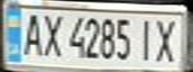2: (81, 14, 100, 61)
4: (63, 12, 87, 60)
5: (115, 16, 136, 61)
8: (97, 15, 118, 61)
A: (18, 9, 45, 57)
I: (133, 16, 157, 63)
X: (151, 15, 184, 64), (39, 10, 66, 58)
